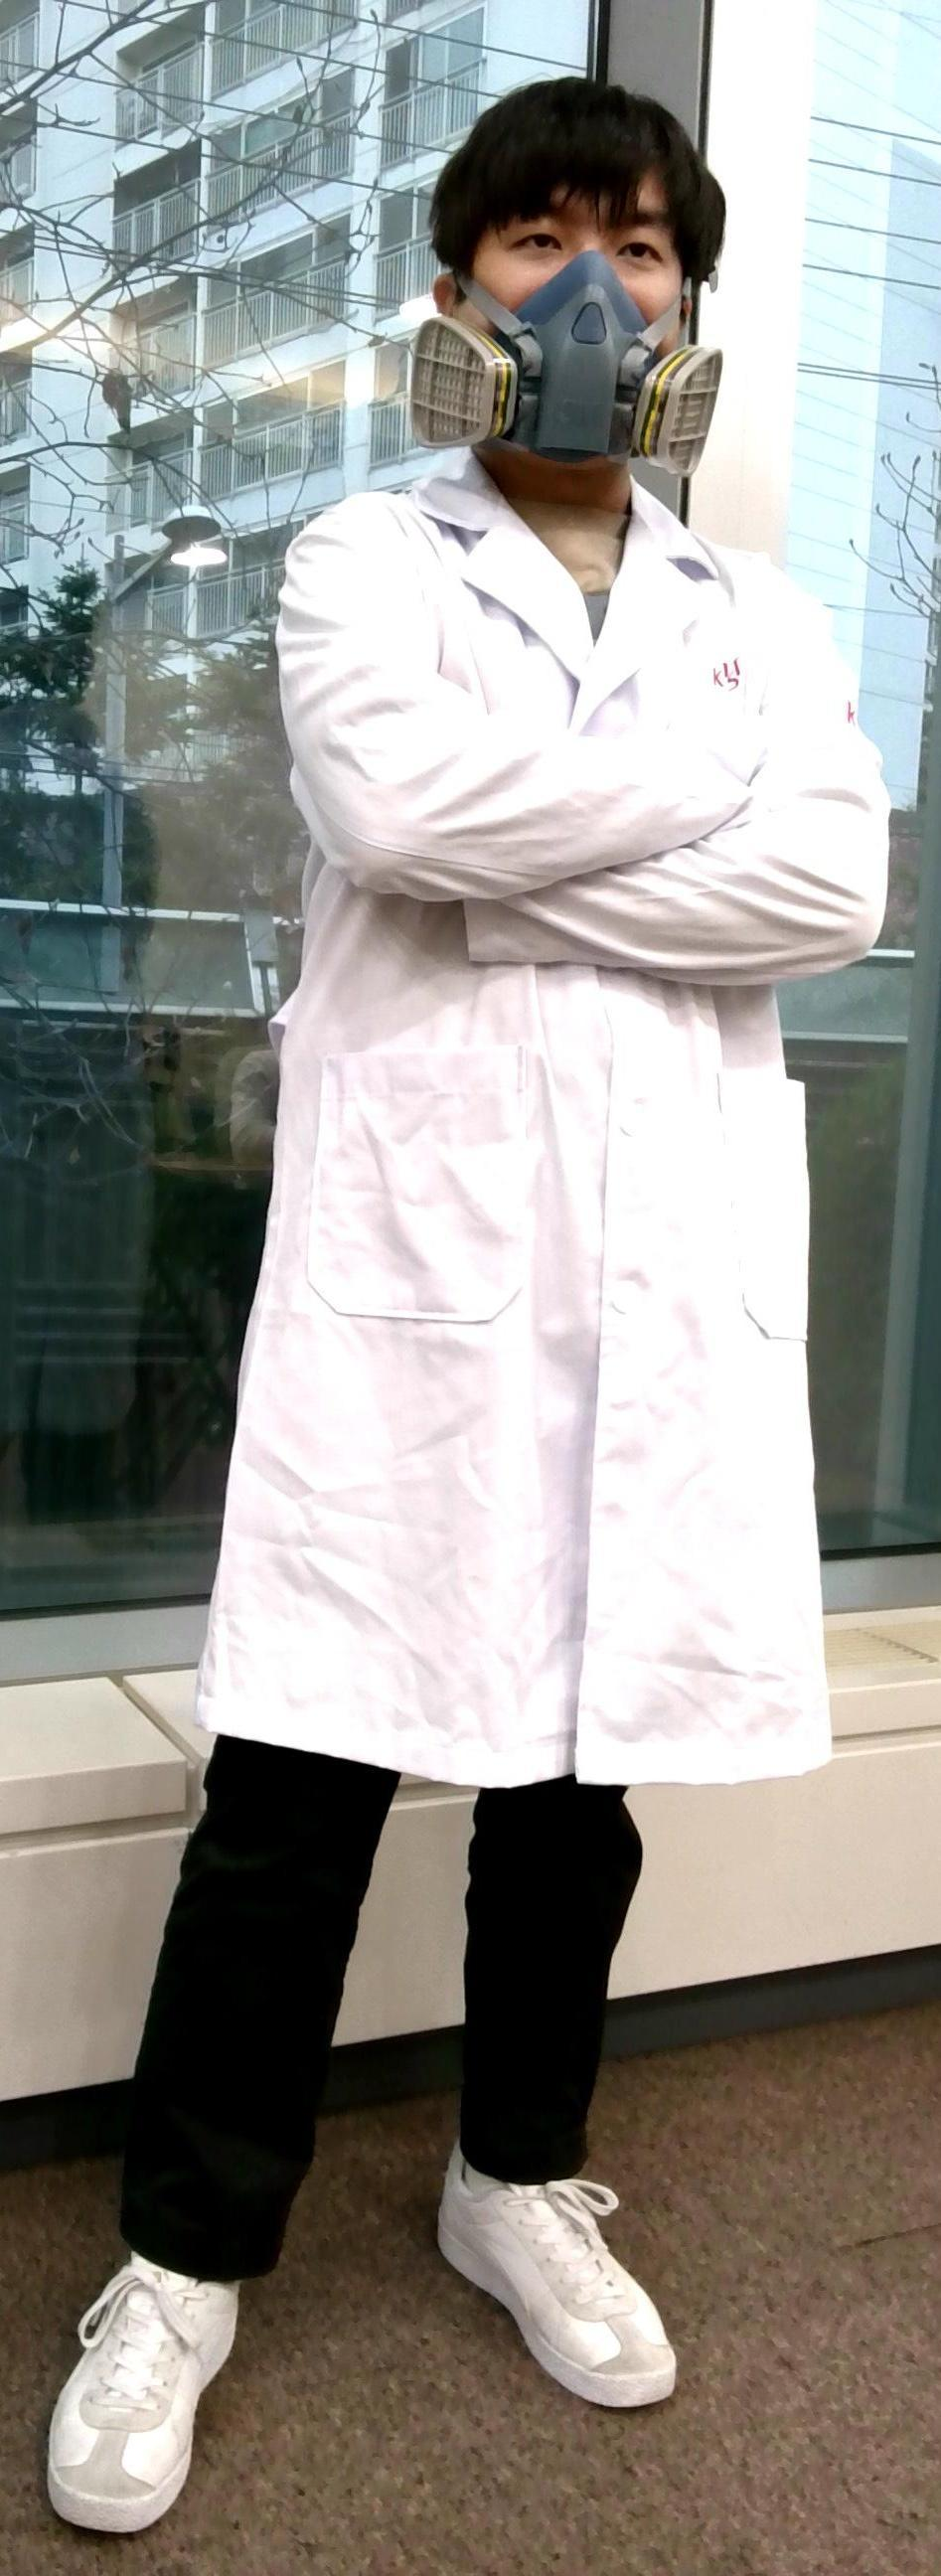lab_coat: (255, 503, 895, 1761)
